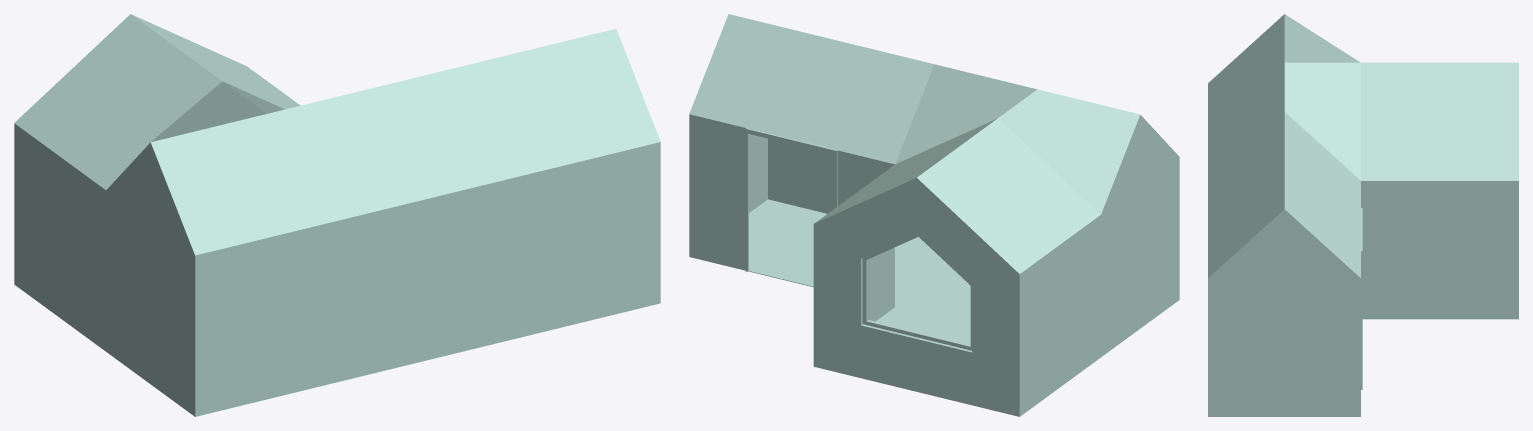
File: 2ndHome.glb
3 views of the same model, side by side, from view 1: azimuth 30°, elevation 25°; view 2: azimuth 150°, elevation 25°; view 3: azimuth 270°, elevation 25° (orthographic). The views are drawn at different scales.
Visible parts, largest first — view 1: Cube.009; view 2: Cube.009; view 3: Cube.009.
Part boxes in pixels (x1,y1,x2,y2): Cube.009: (14, 14, 660, 416); Cube.009: (689, 14, 1179, 416); Cube.009: (1208, 14, 1518, 416).
Bounding box in the file's own units: 6.04 × 3 × 4.07.
